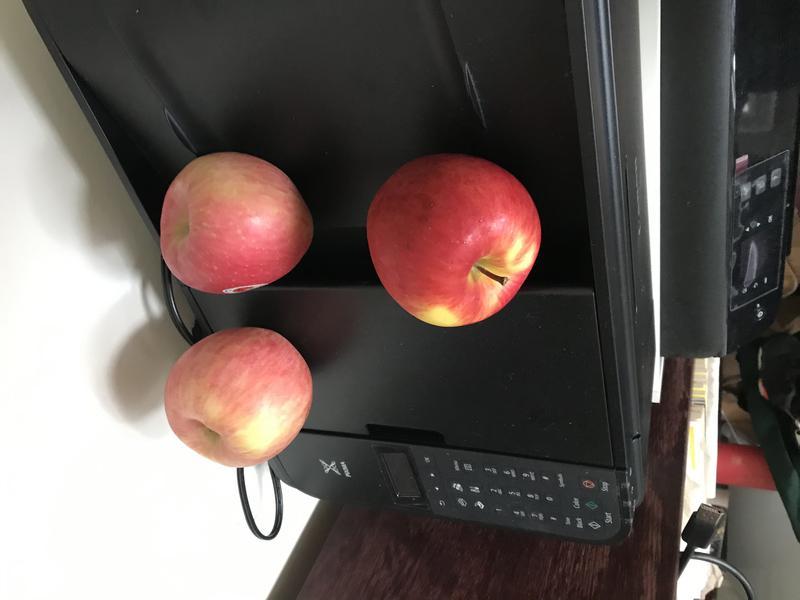red_apple: (361, 143, 555, 349), (153, 321, 325, 479), (154, 149, 321, 303)
